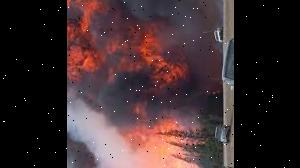fire: (93, 129, 201, 168)
